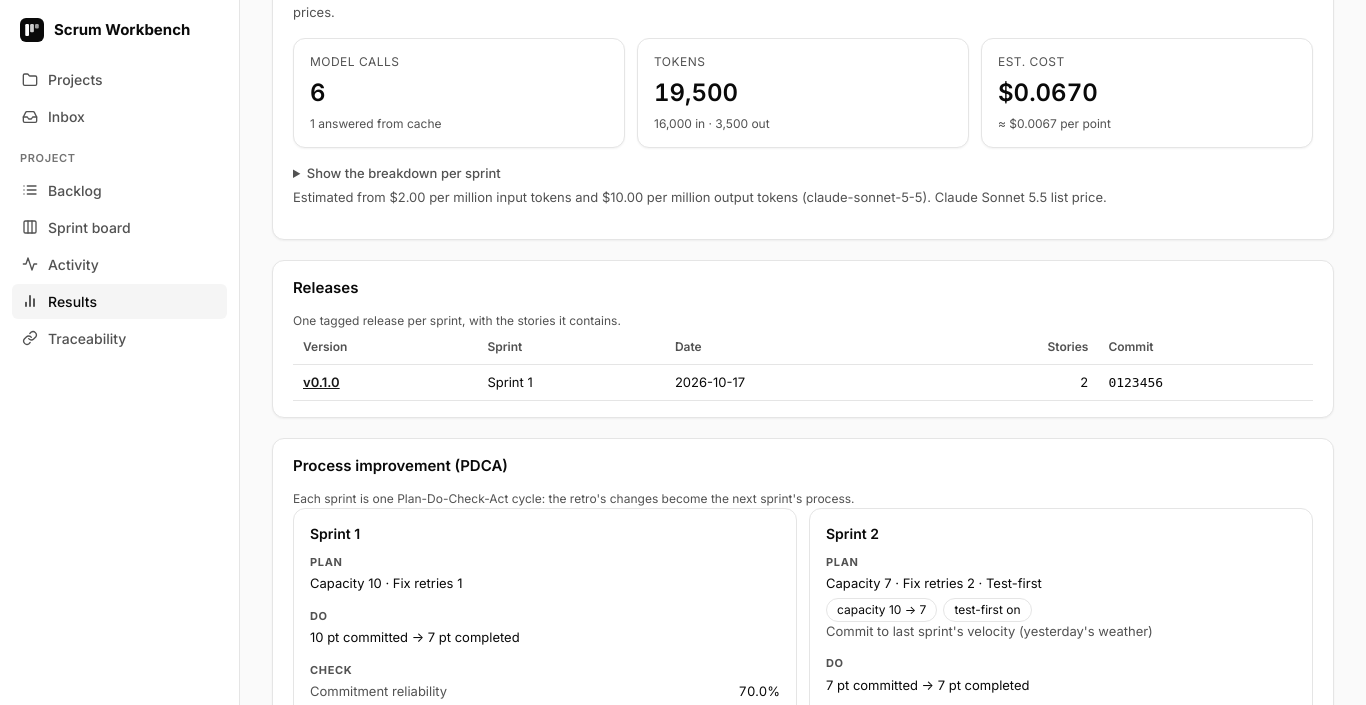
Test: Releases › lists the releases and opens the notes in the drawer
(page scrolled)
Expected: the text "Sprint 1" is shown, [477,365,665,401]
Expected: the text "2026-10-17" is shown, [665,365,924,401]
Click the button "v0.1.0" at (321, 382), box [303,373,340,392]
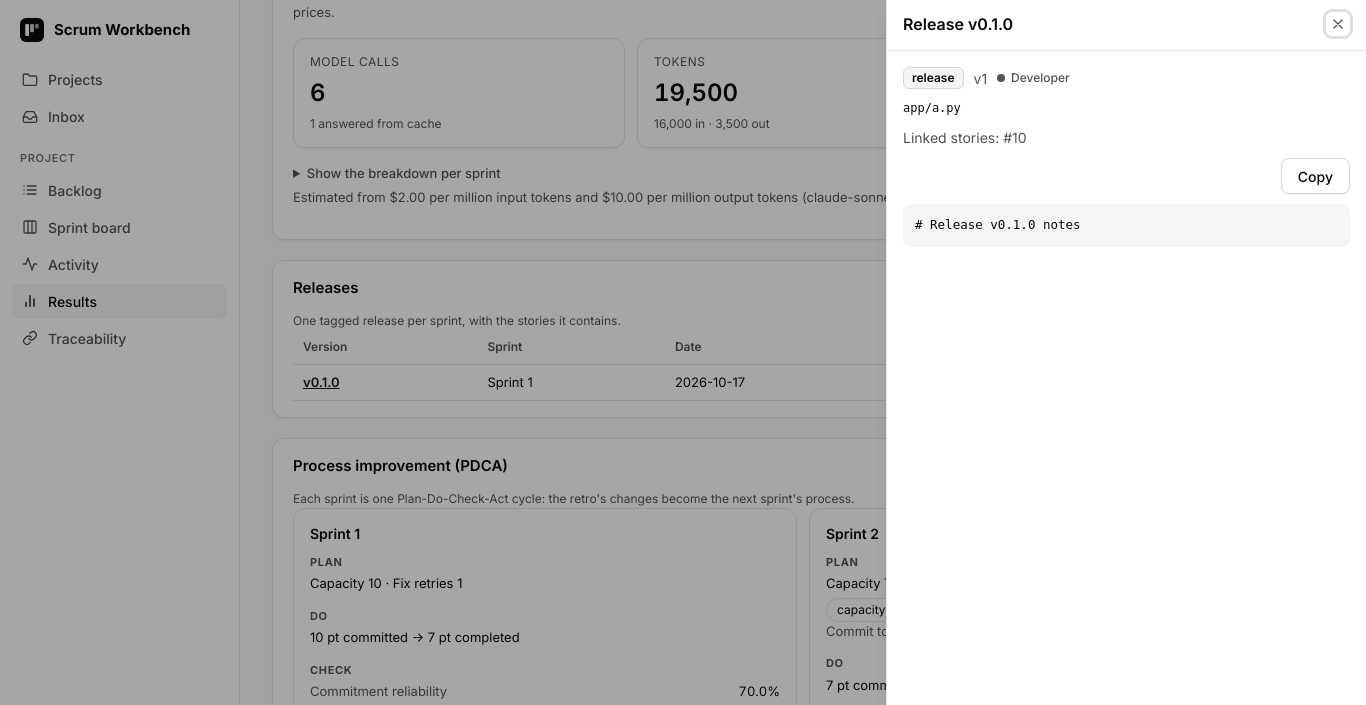
Expected: the text "# Release v0.1.0 notes" is shown, [915,217,1081,232]
